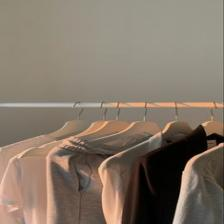brown: (134, 126, 208, 224)
